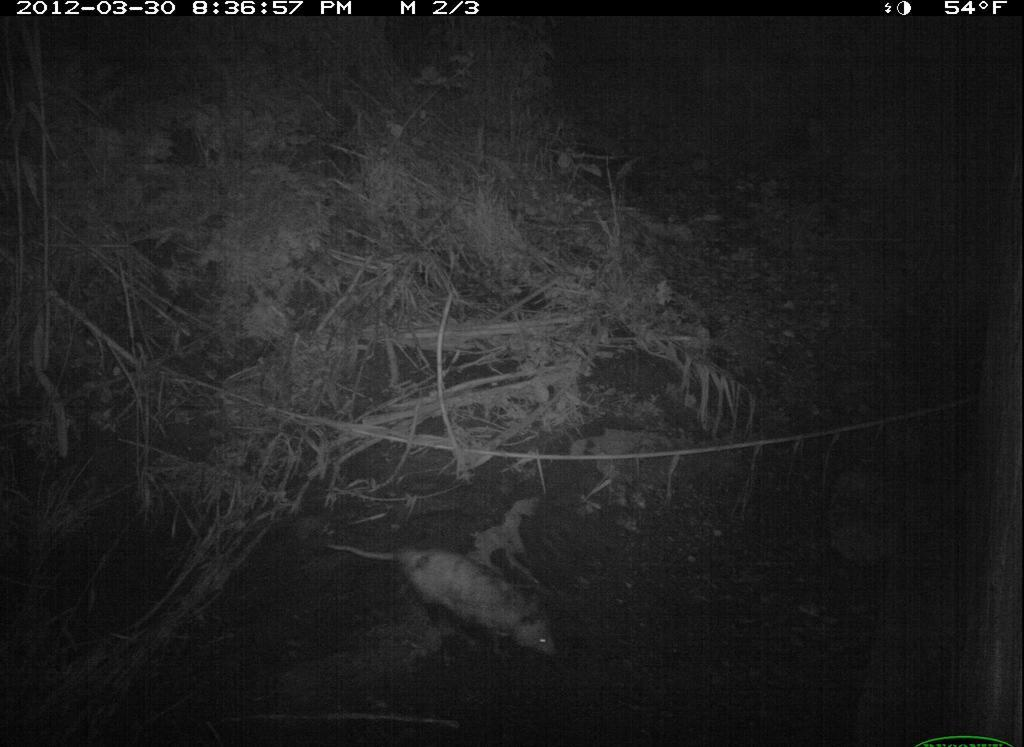opossum: (344, 524, 587, 681)
